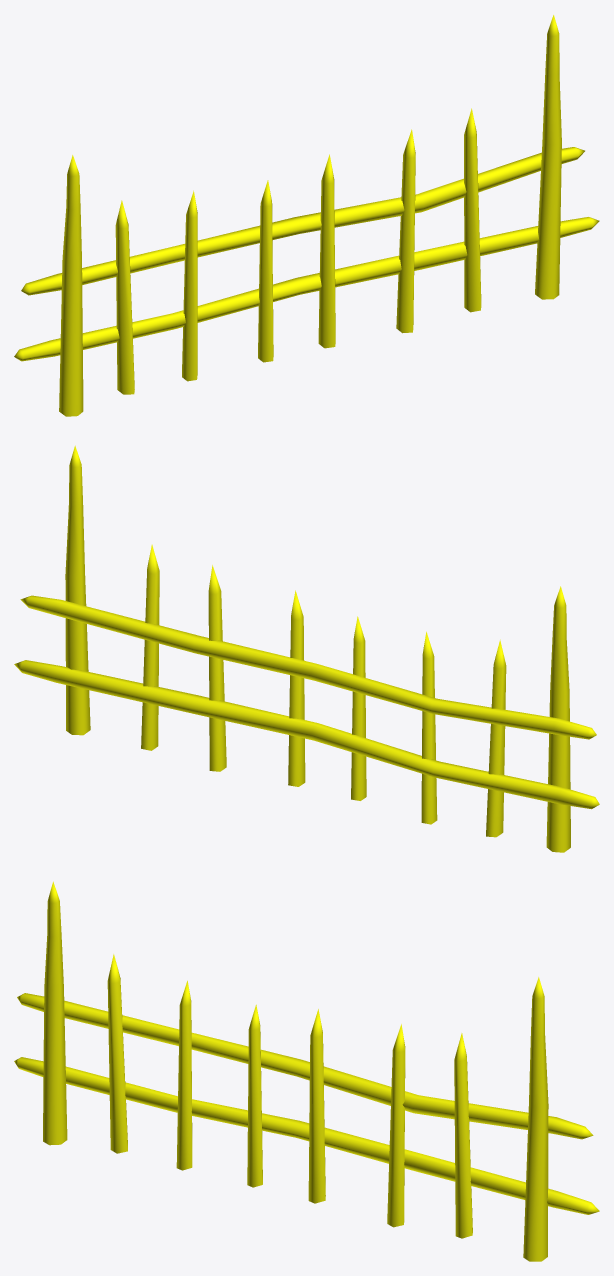
Rendered from gaint_fence05.glb.
3 renders of one model, top to bottom at view 1: azimuth 30°, elevation 25°; view 2: azimuth 150°, elevation 25°; view 3: azimuth 330°, elevation 25°, orthographic.
Visible parts, largest first — view 1: gaint_fence05; view 2: gaint_fence05; view 3: gaint_fence05.
Part boxes in pixels (left/top/right/bottom): gaint_fence05: left=14, top=15, right=599, bottom=416; gaint_fence05: left=14, top=445, right=599, bottom=852; gaint_fence05: left=14, top=881, right=599, bottom=1261.
Bounding box in the file's own units: 9.78 × 4.52 × 0.618.
Materials: 1 (1 with a texture image).
